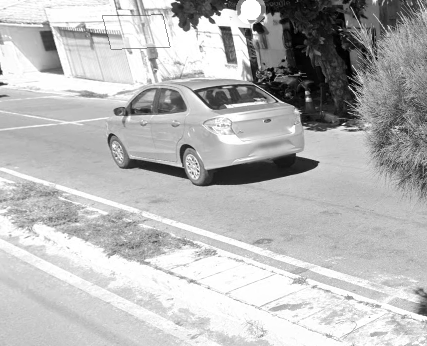car: (102, 72, 310, 191)
